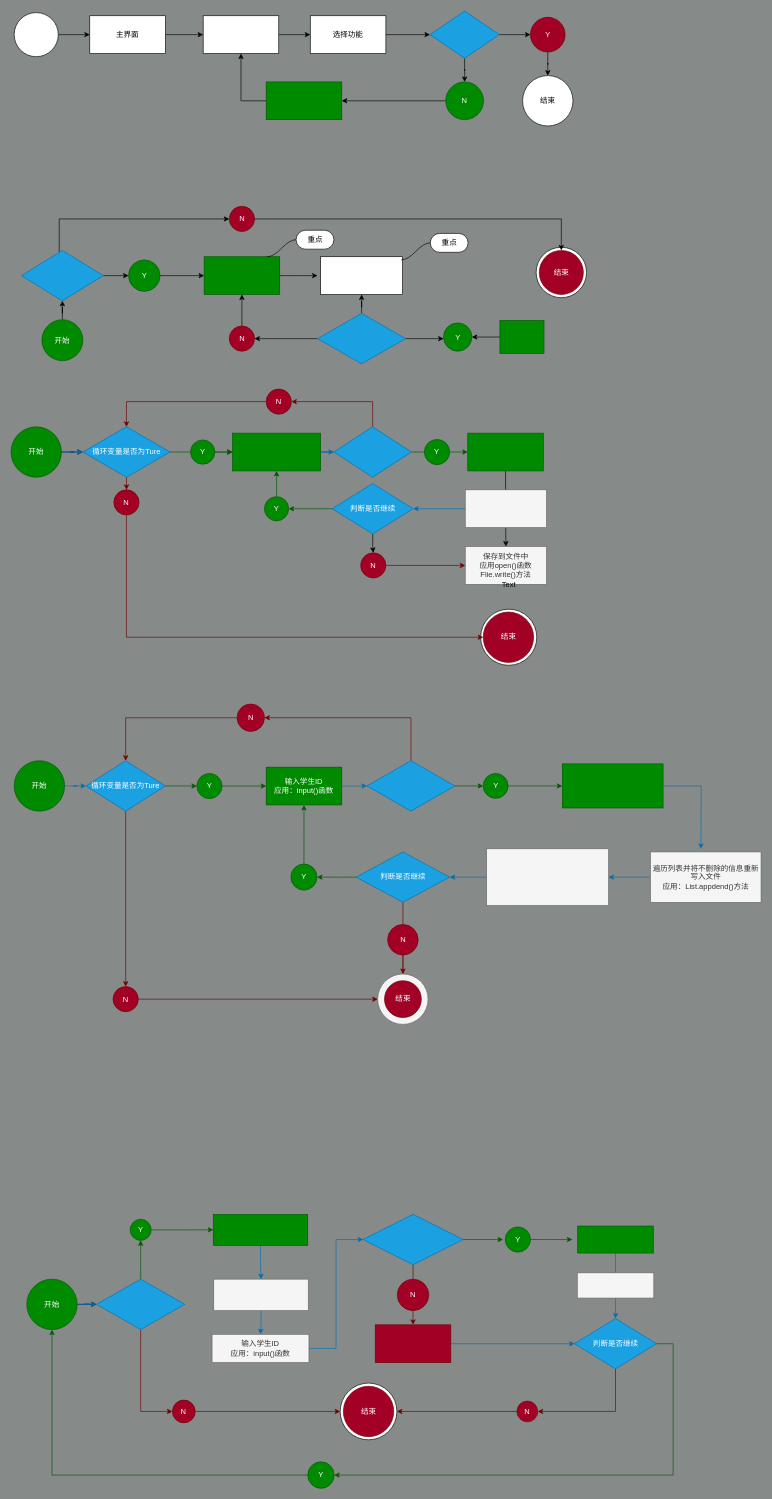
The diagram is 772 pixels wide and 1499 high, and some of its shapes have lost their labels. Here are the shapes that lost their labels. From the top down, the centre of each, then its label:
At point 36,34: "用户".
At point 241,34: "功能菜单".
At point 464,34: "是否为0".
At point 304,100: "执行相应的功能".
At point 62,275: "环境变量是否为Ture".
At point 241,275: "显示主菜单 应用：print（）函数".
At point 361,275: "输入或选择菜单项 应用：input（）函数".
At point 361,338: "判断是否存在 相应的功能".
At point 521,337: "调用相应的函数".
At point 276,451: "输入学生ID或者名字 应用：input()函数".
At point 372,451: "判断书否输入".
At point 505,451: "输入成绩".
At point 506,508: "保存在列表中 应用：List.append()方法".
At point 410,785: "判断是否输入".
At point 612,785: "读取到全部学生信息到列表 应用：File.readlines()".
At point 547,876: "显示全部学生信息并选择是否继续 应用:自定义show()函数 input()函数".
At point 260,1229: "读取全部信息到列表 应用：file.readlines()".
At point 412,1239: "是否为修改的学生".
At point 615,1239: "输入新学生信息 应用：input()函数".
At point 140,1304: "学生信息文件是否存在".
At point 260,1295: "以写的方式打开文件 应用：open()函数".
At point 615,1285: "写入新信息到文件 应用：File.write()方法".
At point 413,1343: "写入原学生信息 应用File.write()方法".
